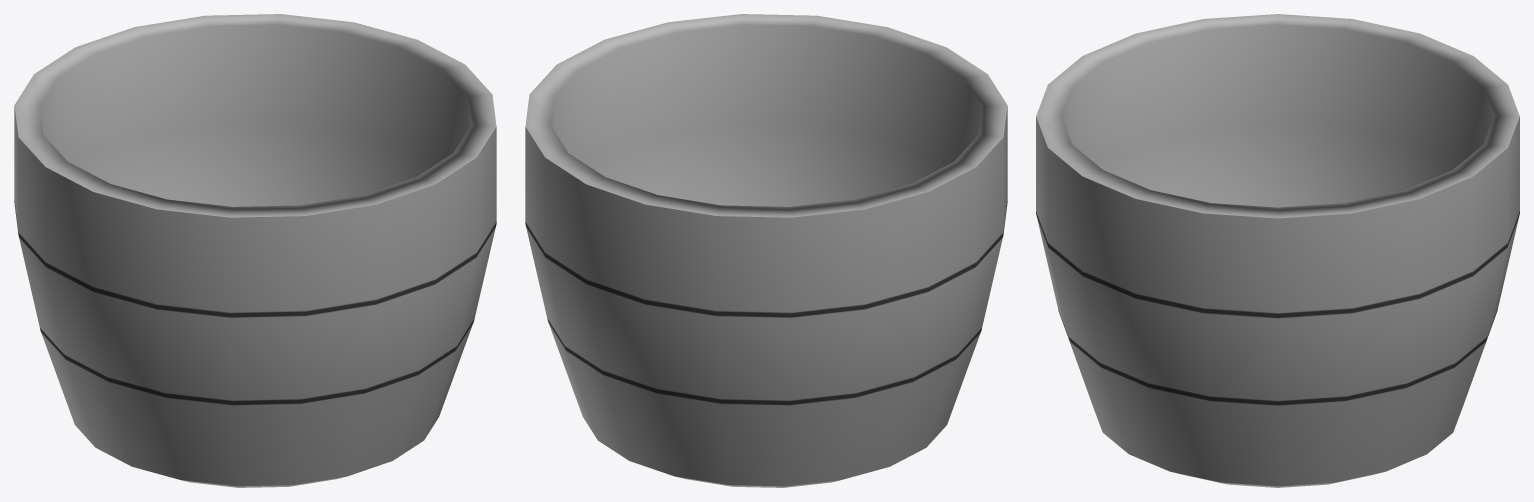
File: caudlron.fbx
3 views of the same model, side by side, from view 1: azimuth 30°, elevation 25°; view 2: azimuth 150°, elevation 25°; view 3: azimuth 270°, elevation 25° (orthographic).
Visible parts, largest first — view 1: cauldron; view 2: cauldron; view 3: cauldron.
Boxes of the visible parts, box(x1,y1,x2,y2) form: cauldron: box(14, 14, 496, 487); cauldron: box(525, 14, 1007, 487); cauldron: box(1036, 14, 1519, 487).
Size of the model in its own units: 3 by 2.13 by 3.
1 material, 1 textured.
